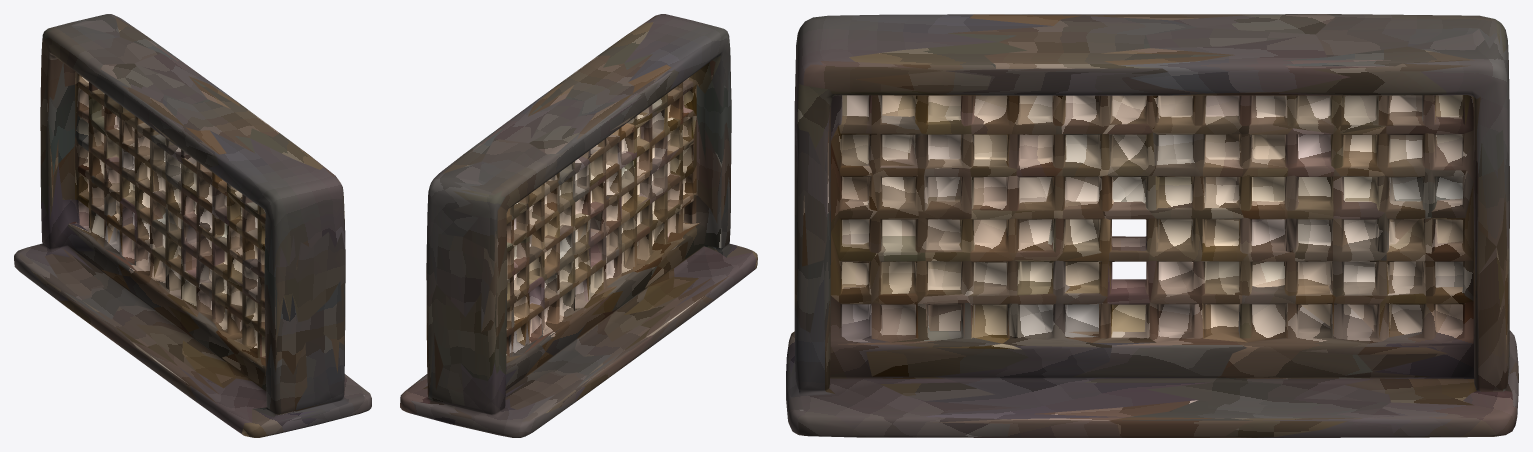
Rendered from KR_사물_s1_prop_window.glb.
3 views of the same model, side by side, from view 1: azimuth 30°, elevation 25°; view 2: azimuth 150°, elevation 25°; view 3: azimuth 270°, elevation 25° (orthographic). The views are drawn at different scales.
Visible parts, largest first — view 1: tripo_node_e87f0537-f93c-426d-bed6-cc5269ddef87; view 2: tripo_node_e87f0537-f93c-426d-bed6-cc5269ddef87; view 3: tripo_node_e87f0537-f93c-426d-bed6-cc5269ddef87.
Part boxes in pixels (x1,y1,x2,y2): tripo_node_e87f0537-f93c-426d-bed6-cc5269ddef87: [14, 14, 371, 437]; tripo_node_e87f0537-f93c-426d-bed6-cc5269ddef87: [400, 14, 757, 437]; tripo_node_e87f0537-f93c-426d-bed6-cc5269ddef87: [786, 14, 1518, 437].
Bounding box in the file's own units: 0.3105 × 0.5344 × 0.9999.
Materials: 1 (1 with a texture image).
